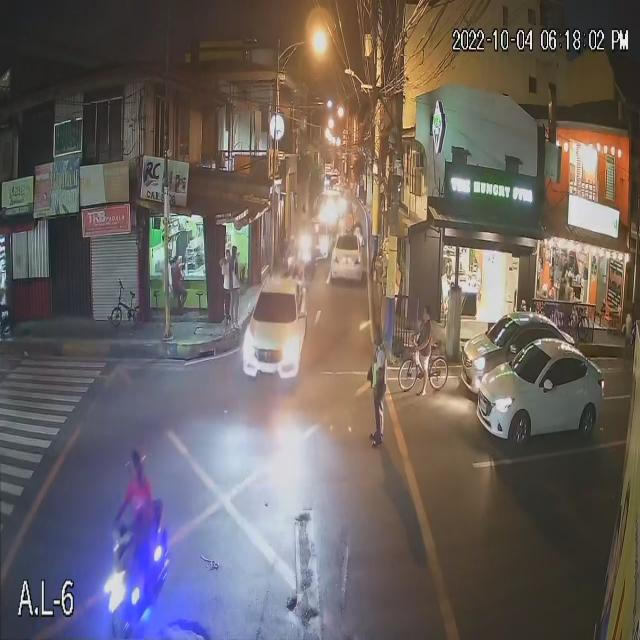helmet: (128, 455, 149, 478)
motorcycle: (100, 519, 177, 631)
rider: (128, 484, 151, 572)
